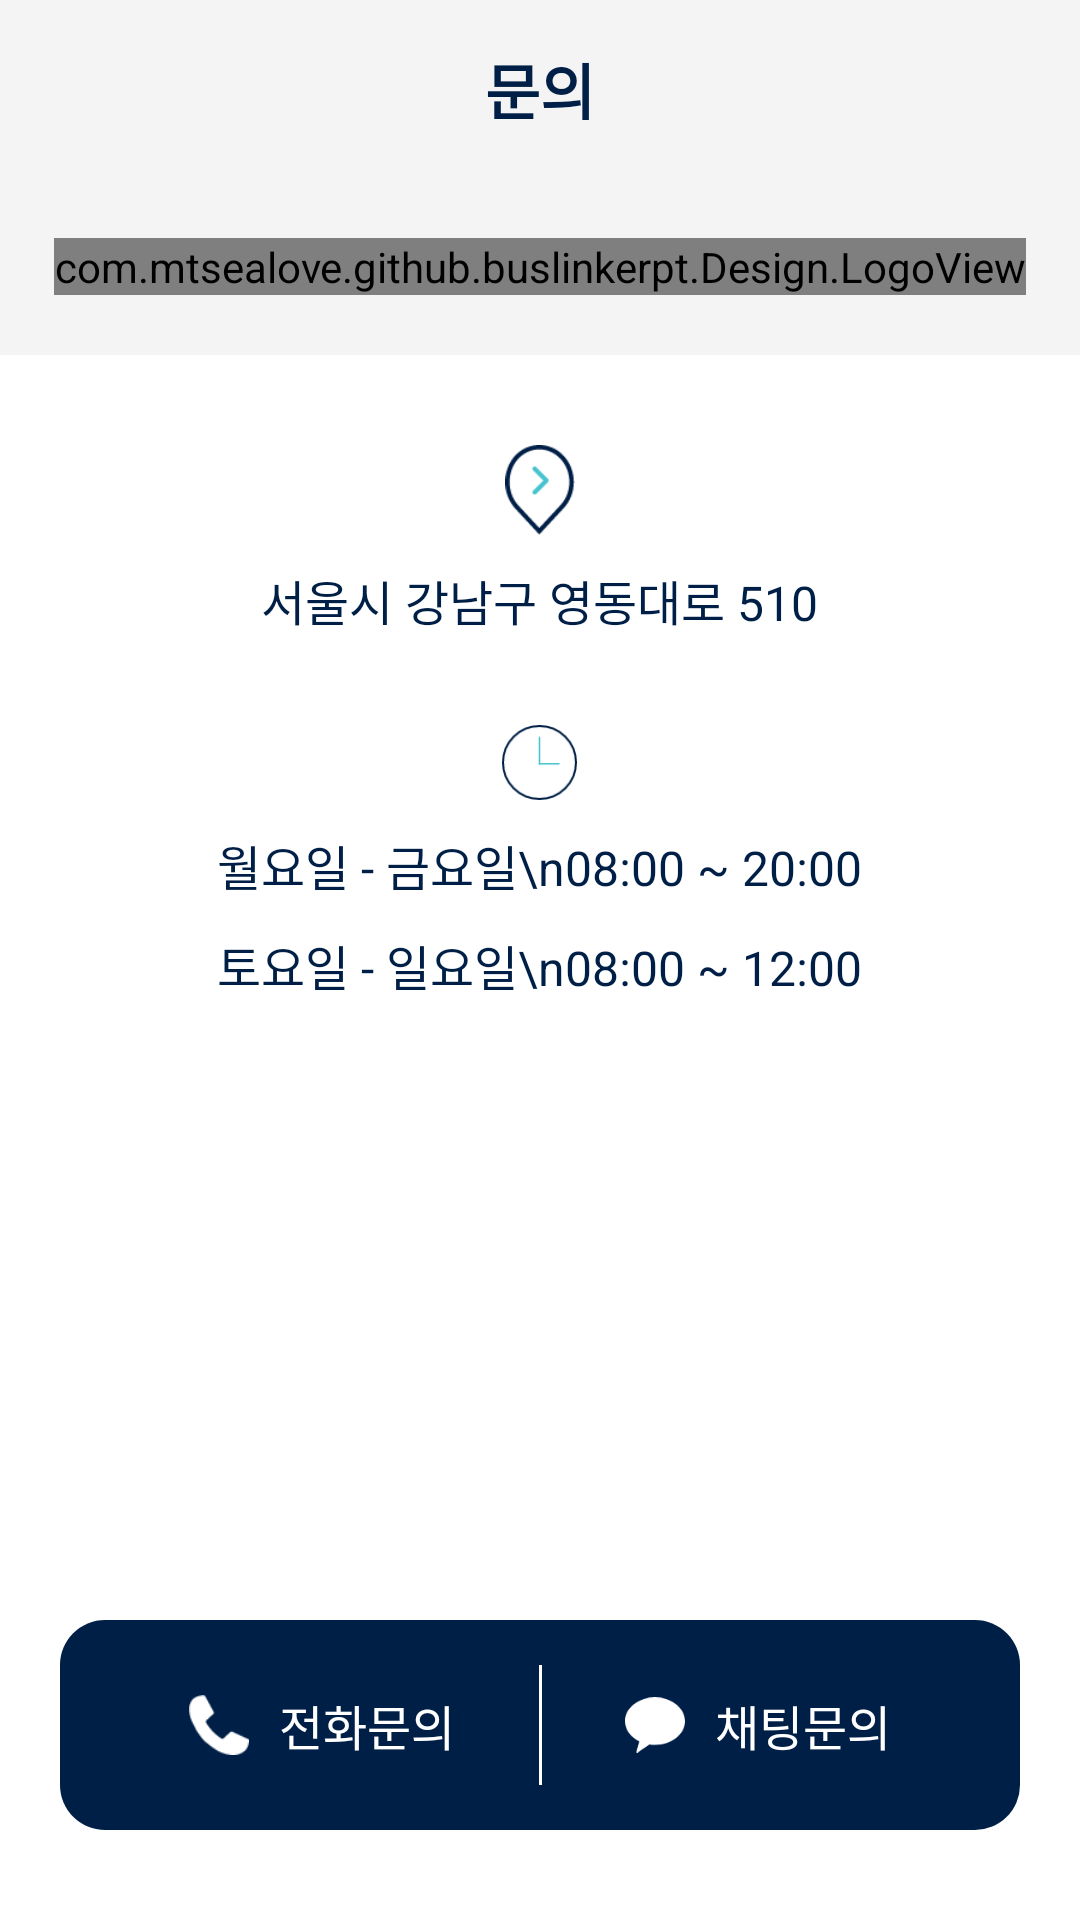

Point at icon controls on the screen. Image size 1080w x 1920h, points as [x,y].
chat: [655,1725]
loc: [540,490]
phone: [219,1725]
time: [539,762]
